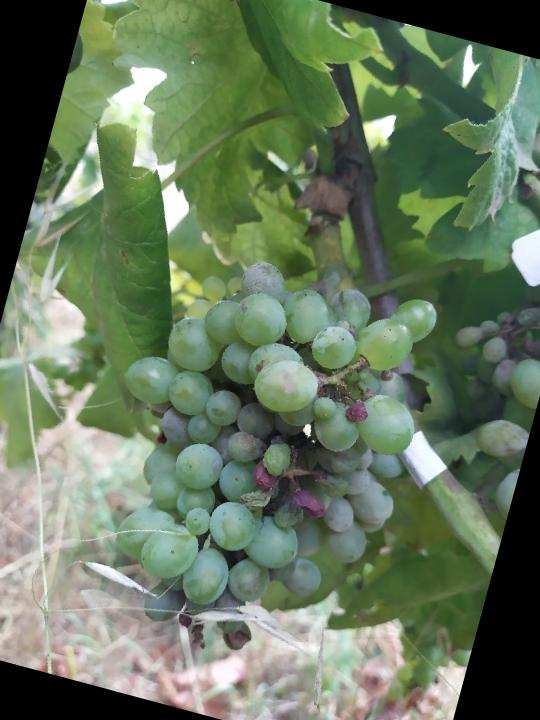grape: (61, 227, 452, 676)
